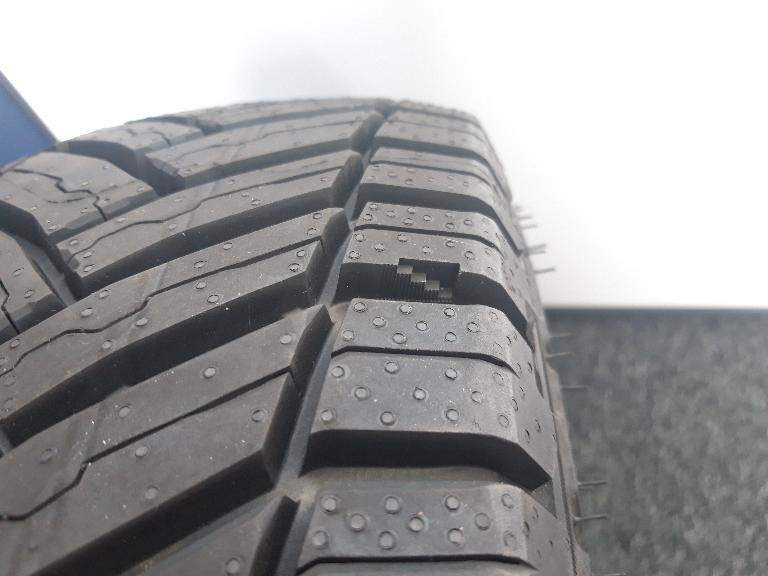temoin:100: (379, 254, 465, 304)
